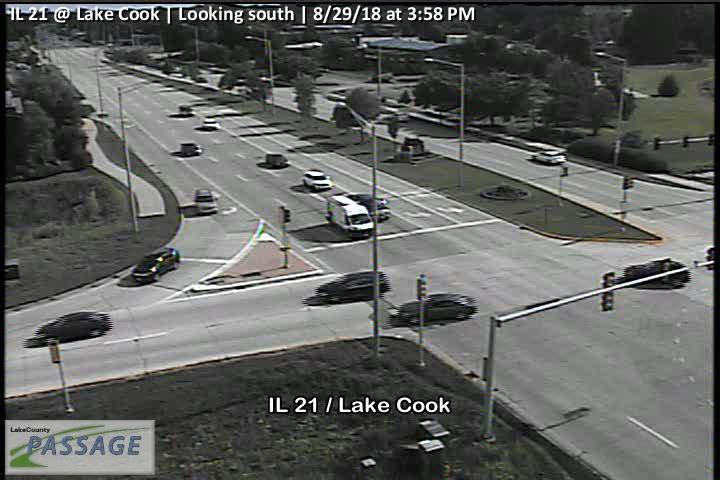Sedan: (396, 293, 474, 327), (34, 312, 112, 344), (315, 271, 387, 305), (130, 246, 180, 283), (624, 259, 690, 286), (341, 192, 391, 223), (195, 186, 219, 216), (303, 169, 332, 191), (531, 147, 567, 163)
Truck: (324, 195, 375, 237)
